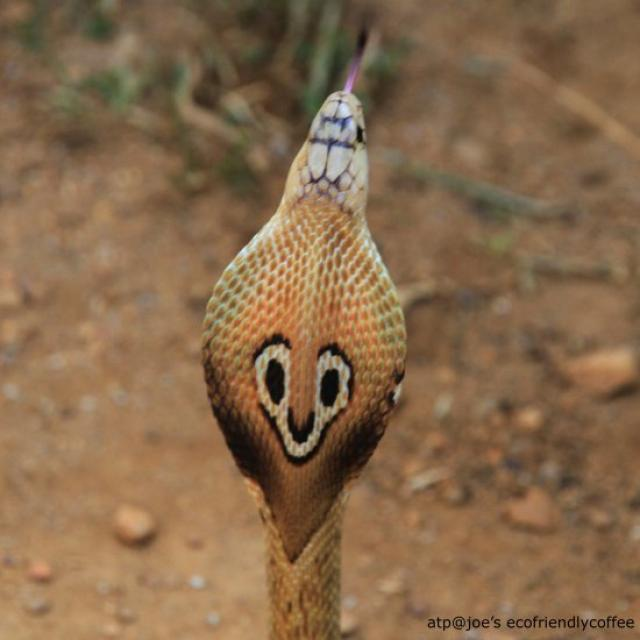Snake: (198, 23, 408, 639)
